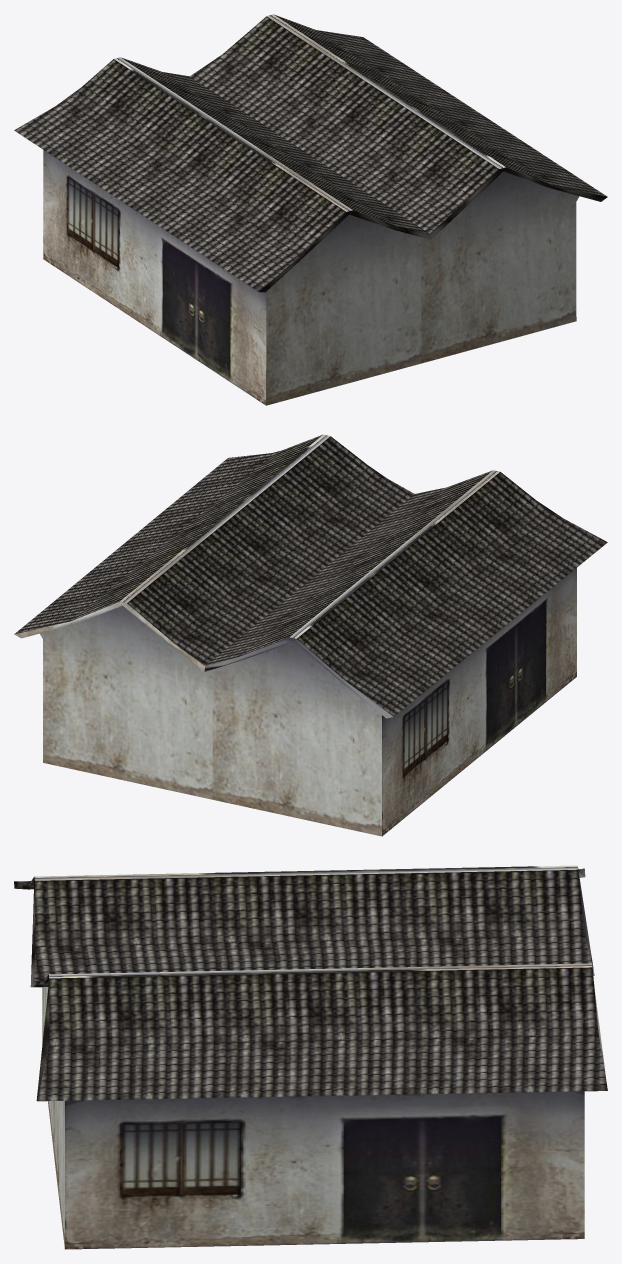
The model's file is ian1589.obj.
3 views of the same model, one above another, from view 1: azimuth 30°, elevation 25°; view 2: azimuth 150°, elevation 25°; view 3: azimuth 270°, elevation 25° (orthographic). The views are drawn at different scales.
Visible parts, largest first — view 1: ian1589; view 2: ian1589; view 3: ian1589.
Boxes of the visible parts, x1,y1,x2,y2 form: ian1589: (14, 14, 607, 405); ian1589: (14, 434, 607, 836); ian1589: (14, 865, 607, 1249).
Bounding box in the file's own units: 221 × 99.21 × 238.
